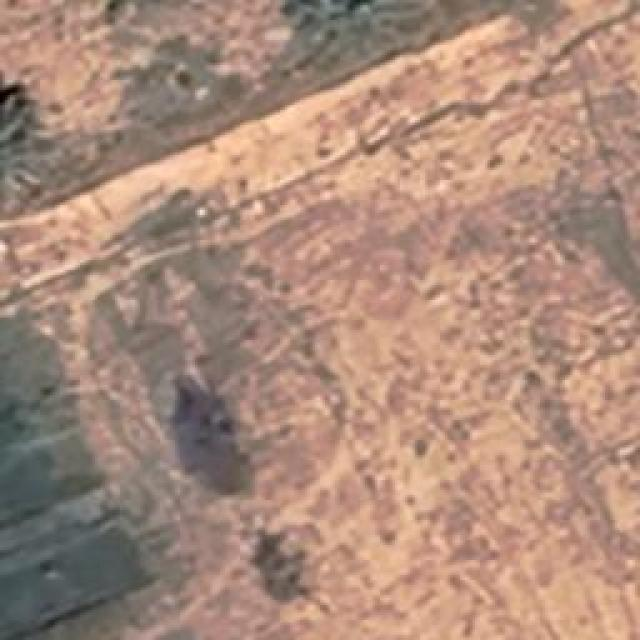PalmTree: (44, 26, 342, 114)
